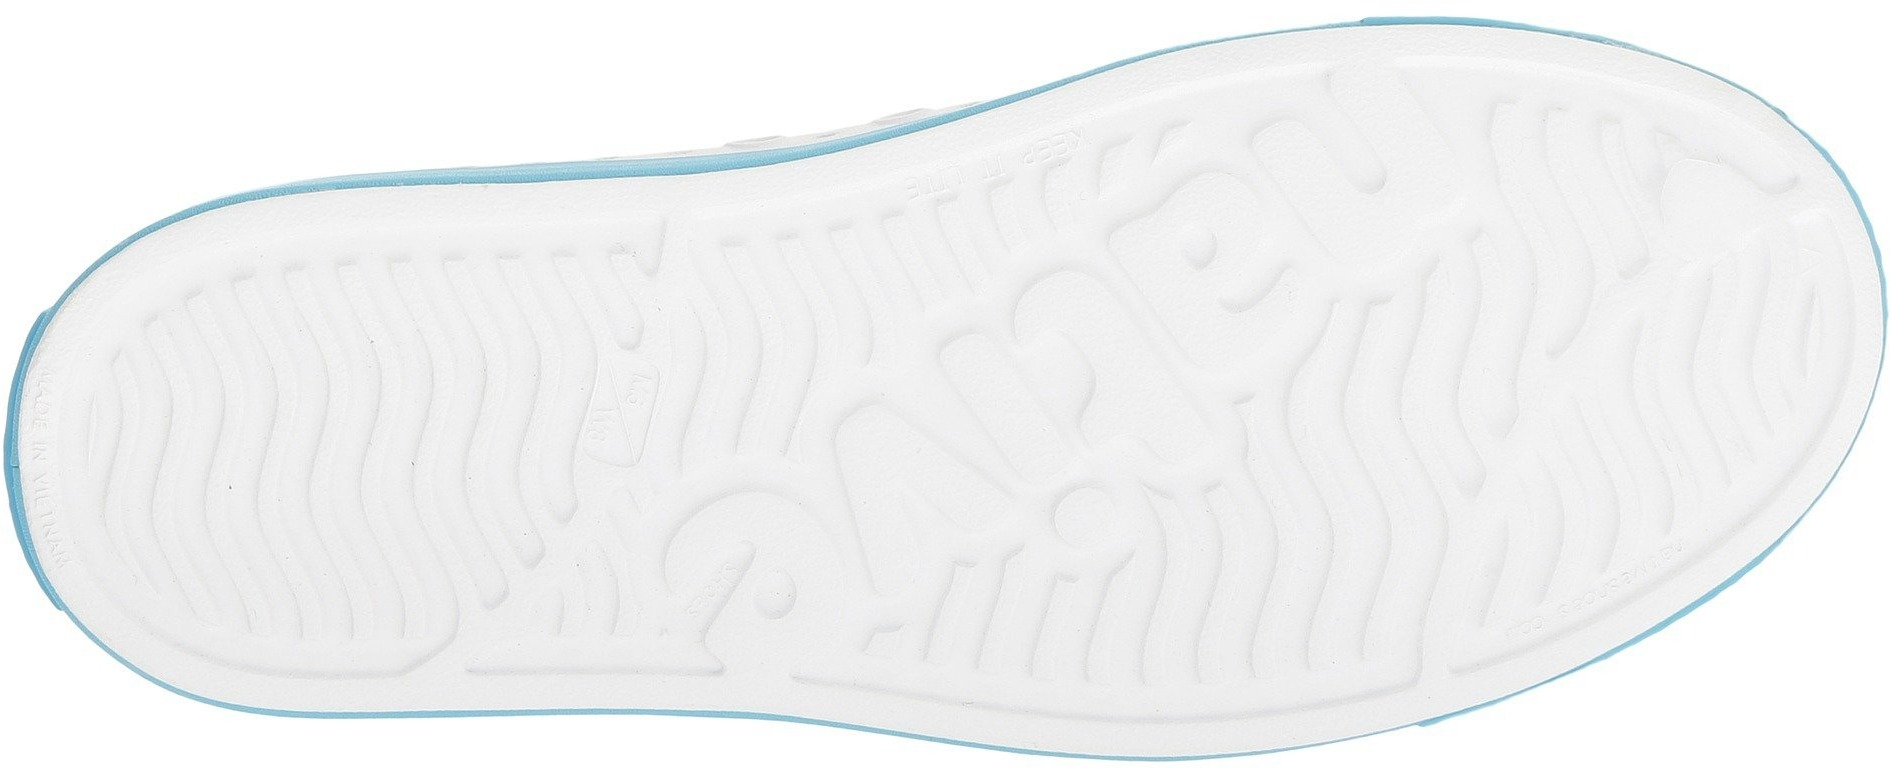chevron: (1439, 231, 1686, 542), (350, 254, 586, 494), (1166, 460, 1391, 689), (125, 344, 334, 552), (693, 231, 870, 391)
quad: (575, 341, 667, 465)
text: (1126, 171, 1343, 395), (902, 327, 1116, 554), (684, 491, 870, 683), (575, 341, 667, 465), (16, 370, 65, 428)
triangle: (575, 341, 667, 465), (1786, 229, 1842, 289)
